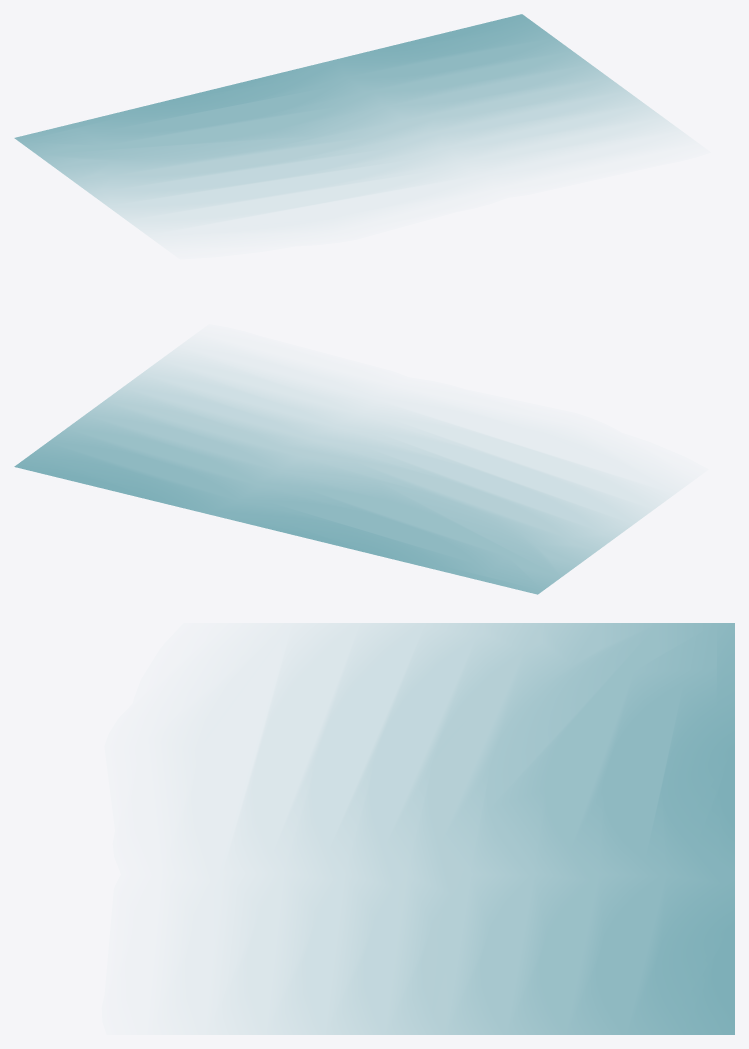
3 renders of one model, top to bottom at view 1: azimuth 30°, elevation 25°; view 2: azimuth 150°, elevation 25°; view 3: azimuth 270°, elevation 25°, orthographic. The views are drawn at different scales.
Parts seen in each view (by area): view 1: city; view 2: city; view 3: city.
Part boxes in pixels (left/top/right/bottom): city: left=14, top=14, right=674, bottom=230; city: left=14, top=351, right=668, bottom=594; city: left=219, top=623, right=734, bottom=1034.
Bounding box in the file's own units: 500 × 0 × 370.
